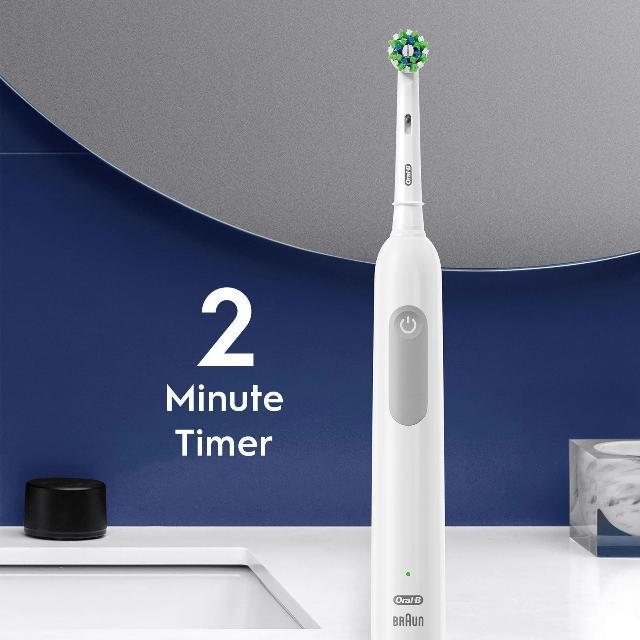toothbrush: (322, 8, 502, 342)
